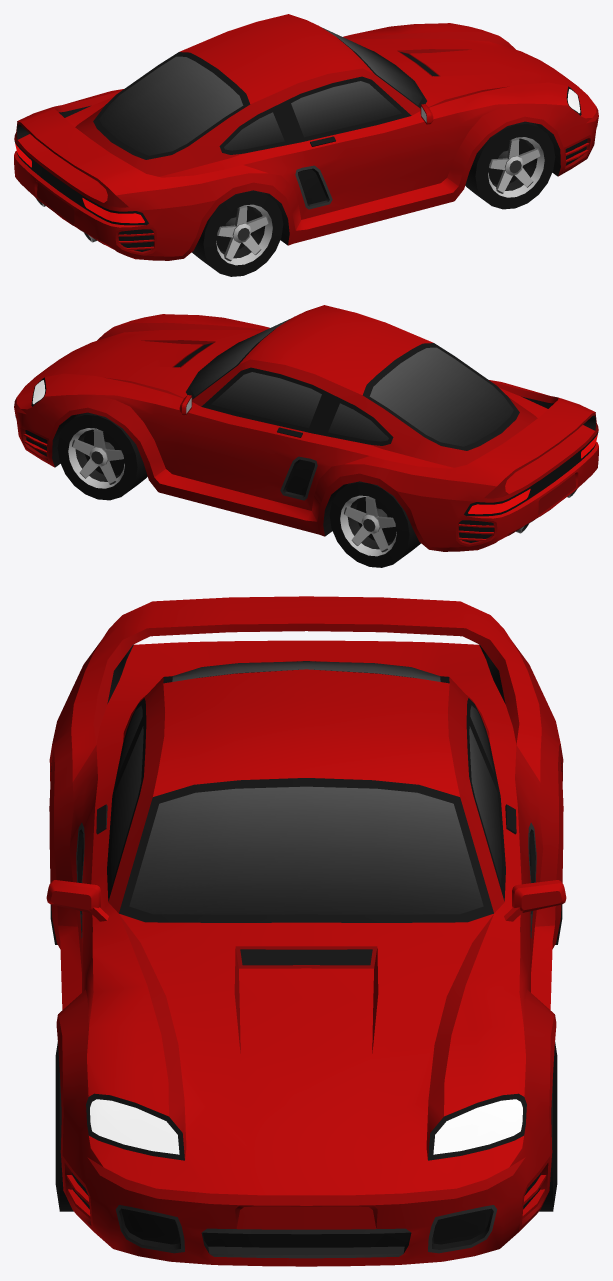
File: Car_180.glb
3 views of the same model, one above another, from view 1: azimuth 30°, elevation 25°; view 2: azimuth 150°, elevation 25°; view 3: azimuth 270°, elevation 25° (orthographic). The views are drawn at different scales.
Parts seen in each view (by area): view 1: Car_180, wheel_1_Car_180_Wheel_1R, wheel_3_Car_180_Wheel_2R; view 2: Car_180, wheel_0_Car_180_Wheel_1L, wheel_2_Car_180_Wheel_2L; view 3: Car_180, wheel_1_Car_180_Wheel_1R, wheel_0_Car_180_Wheel_1L.
Boxes of the visible parts, left/top/right/bottom form: Car_180: left=14, top=14, right=598, bottom=260; wheel_1_Car_180_Wheel_1R: left=465, top=121, right=555, bottom=209; wheel_3_Car_180_Wheel_2R: left=192, top=190, right=283, bottom=276; Car_180: left=14, top=305, right=598, bottom=551; wheel_0_Car_180_Wheel_1L: left=57, top=412, right=147, bottom=500; wheel_2_Car_180_Wheel_2L: left=329, top=481, right=420, bottom=567; Car_180: left=46, top=596, right=566, bottom=1266; wheel_1_Car_180_Wheel_1R: left=55, top=1041, right=73, bottom=1211; wheel_0_Car_180_Wheel_1L: left=539, top=1042, right=557, bottom=1211.
Size of the model in its own units: 4.61 by 1.38 by 2.02.
Materials: 3 (3 with a texture image).
